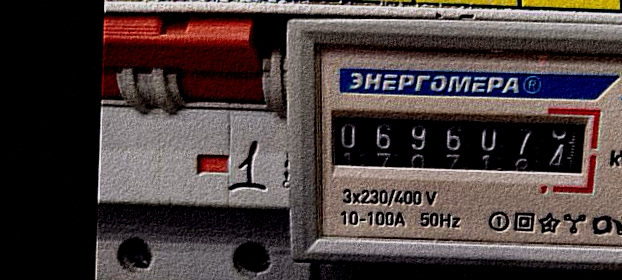0: (338, 121, 360, 151), (480, 124, 500, 154)
4: (546, 142, 566, 171)
6: (444, 123, 465, 155), (374, 122, 394, 151)
7: (515, 125, 534, 156)
9: (409, 123, 430, 153)
screen: (319, 94, 605, 196)
